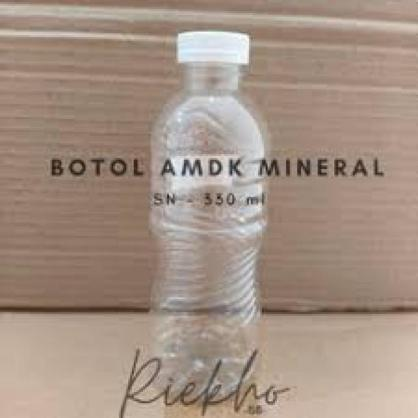bottle: (136, 27, 276, 410)
cap: (172, 31, 255, 73)
